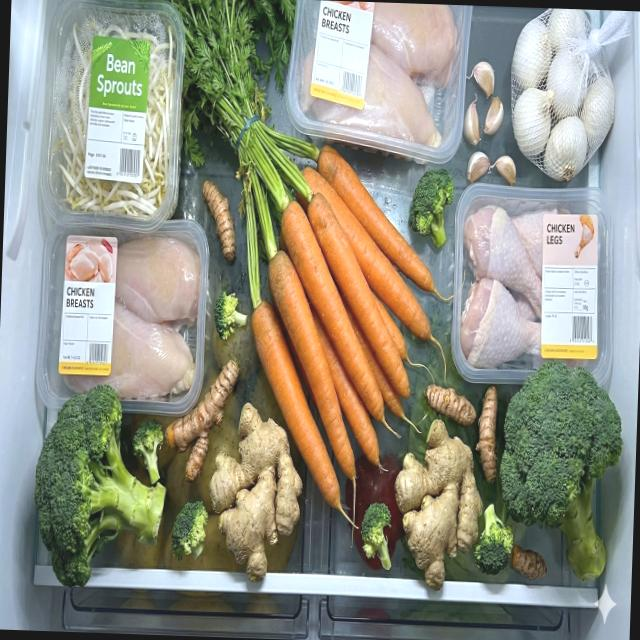bean_sprouts: (54, 16, 176, 223)
brocolli: (496, 358, 626, 584), (31, 381, 170, 590), (409, 165, 455, 249), (472, 502, 514, 576), (170, 501, 208, 564), (360, 502, 394, 572), (212, 290, 248, 342)
carrot: (244, 141, 438, 514)
chicken: (458, 204, 602, 376), (58, 232, 203, 402), (298, 0, 459, 149)
garlic: (508, 7, 618, 185), (461, 60, 520, 186)
ginger: (208, 402, 306, 582), (392, 417, 486, 593)
turmeric: (162, 356, 238, 482), (201, 178, 239, 262), (474, 382, 500, 484), (423, 383, 478, 428), (510, 540, 548, 582)
